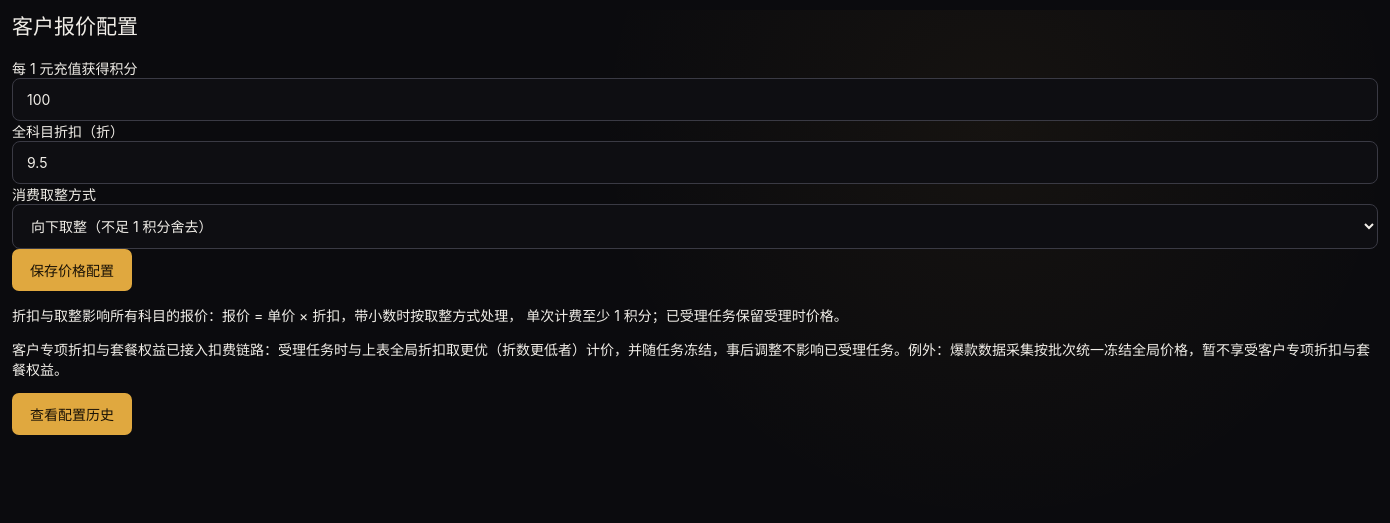
Scenario: configuration history lists versions with operator, reason and snapshot
Expected: the number field labelled "每 1 元充值获得积分" holds "100", [12, 78, 1378, 121]
Click the button "查看配置历史".
click(72, 414)  # box [12, 393, 132, 435]
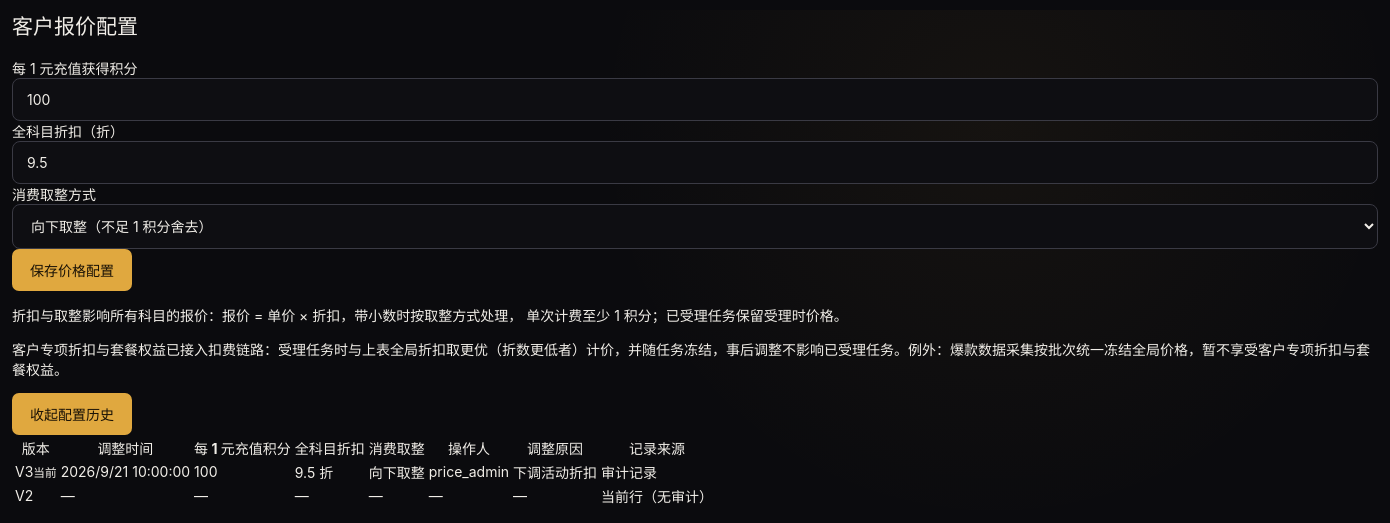
Now the text "V3" is shown, box [14, 461, 58, 483]
Now the text "当前" is shown, box [33, 466, 57, 480]
Now the text "price_admin" is shown, box [428, 461, 510, 483]
